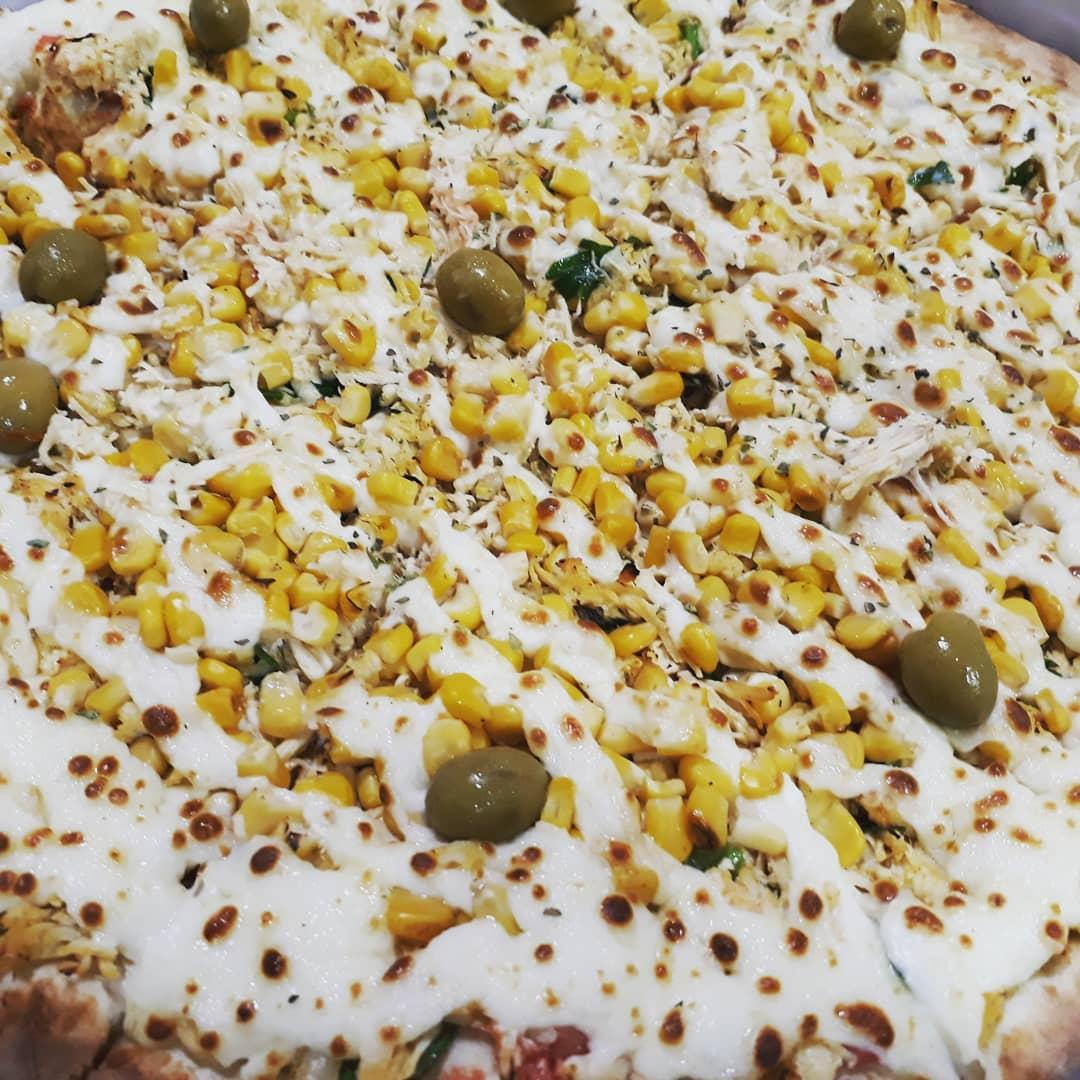Corn: (702, 511, 889, 651), (599, 689, 741, 859), (543, 382, 690, 533), (348, 143, 605, 225), (167, 235, 296, 389), (192, 475, 332, 613), (70, 522, 192, 658), (673, 55, 815, 158), (584, 296, 705, 373), (940, 217, 1064, 290), (198, 661, 309, 733), (326, 25, 413, 100), (564, 46, 653, 110), (452, 369, 528, 442), (366, 622, 446, 683), (226, 52, 309, 104)
Olives: (423, 732, 555, 853), (892, 610, 1003, 737), (430, 247, 527, 340), (0, 352, 75, 460), (18, 233, 110, 317), (830, 0, 913, 68), (183, 0, 252, 63), (503, 0, 583, 38)
Pizza: (0, 0, 1080, 1080)
